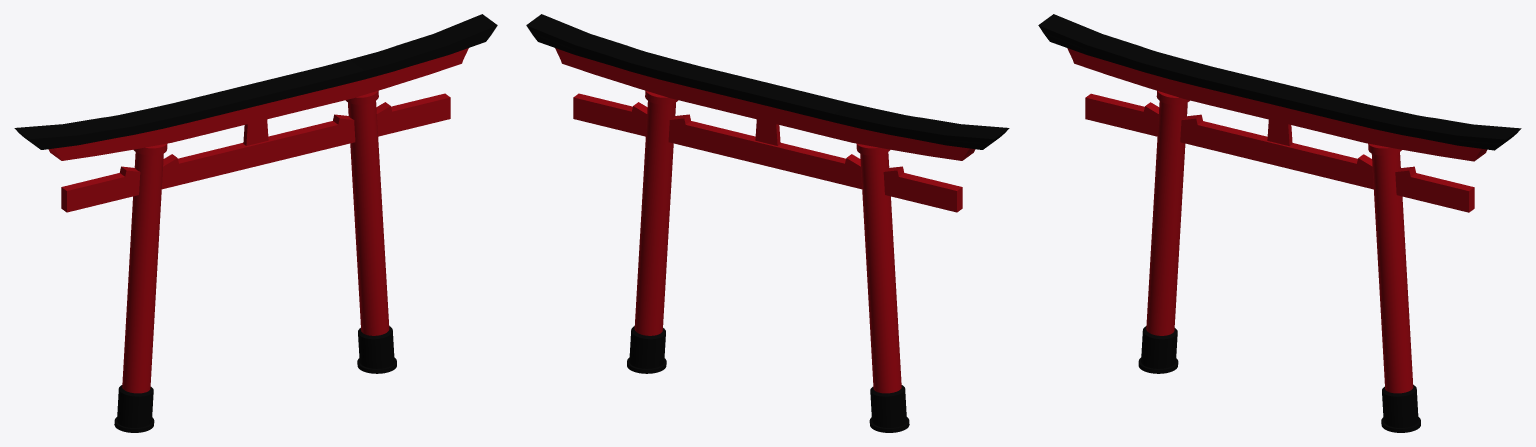
Rendered from Inari_1.fbx.
3 renders of one model, left to right at view 1: azimuth 30°, elevation 25°; view 2: azimuth 150°, elevation 25°; view 3: azimuth 330°, elevation 25°, orthographic.
Parts seen in each view (by area): view 1: Cube.006; view 2: Cube.006; view 3: Cube.006.
Boxes of the visible parts, bbox=[...] form: Cube.006: bbox=[14, 14, 497, 432]; Cube.006: bbox=[526, 14, 1009, 432]; Cube.006: bbox=[1038, 14, 1521, 432].
Bounding box in the file's own units: 1943 × 1264 × 142.
